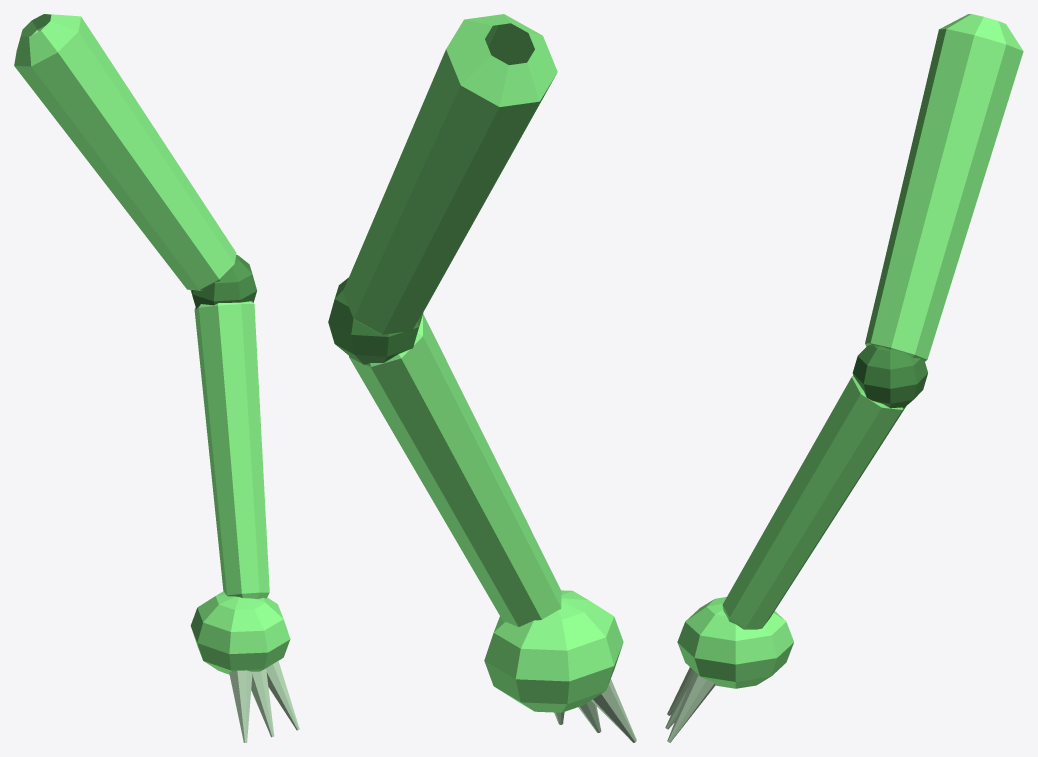
Rendered from imp_arm_R.obj.
3 renders of one model, left to right at view 1: azimuth 30°, elevation 25°; view 2: azimuth 150°, elevation 25°; view 3: azimuth 270°, elevation 25°, orthographic. The views are drawn at different scales.
Parts seen in each view (by area): view 1: arm_upper_R, arm_lower_R, hand_R, arm_joint_R, claw_R_0, claw_R_2, claw_R_1; view 2: arm_upper_R, arm_lower_R, hand_R, arm_joint_R, claw_R_0; view 3: arm_upper_R, arm_lower_R, hand_R, arm_joint_R, claw_R_2.
Part boxes in pixels (left/top/right/bottom): arm_upper_R: left=14, top=14, right=236, bottom=290; arm_lower_R: left=194, top=301, right=269, bottom=598; hand_R: left=190, top=591, right=290, bottom=674; arm_joint_R: left=191, top=255, right=256, bottom=309; claw_R_0: left=229, top=670, right=252, bottom=742; claw_R_2: left=266, top=661, right=299, bottom=730; claw_R_1: left=251, top=668, right=274, bottom=737; arm_upper_R: left=343, top=14, right=557, bottom=334; arm_lower_R: left=349, top=314, right=561, bottom=626; hand_R: left=484, top=590, right=623, bottom=712; arm_joint_R: left=328, top=277, right=423, bottom=364; claw_R_0: left=591, top=679, right=636, bottom=742; arm_upper_R: left=865, top=14, right=1023, bottom=361; arm_lower_R: left=722, top=375, right=905, bottom=629; hand_R: left=677, top=597, right=793, bottom=688; arm_joint_R: left=852, top=345, right=927, bottom=408; claw_R_2: left=667, top=671, right=715, bottom=742.
Size of the model in its own units: 0.2642 by 0.824 by 0.3966.
